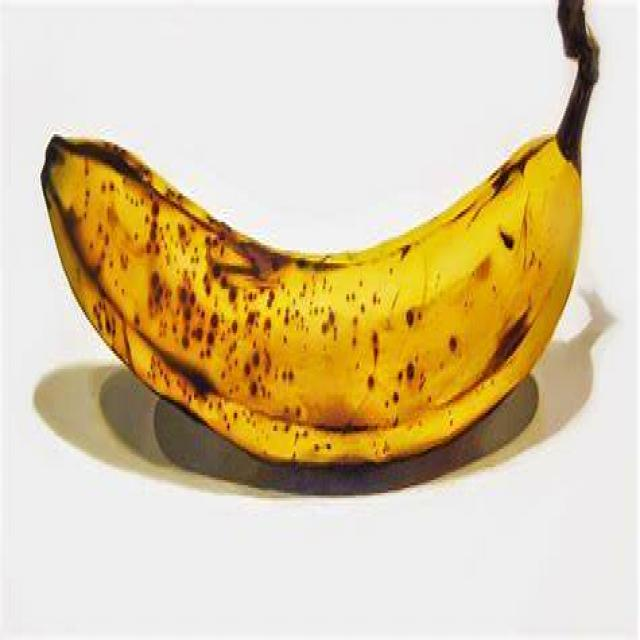Banana: (41, 20, 608, 476)
